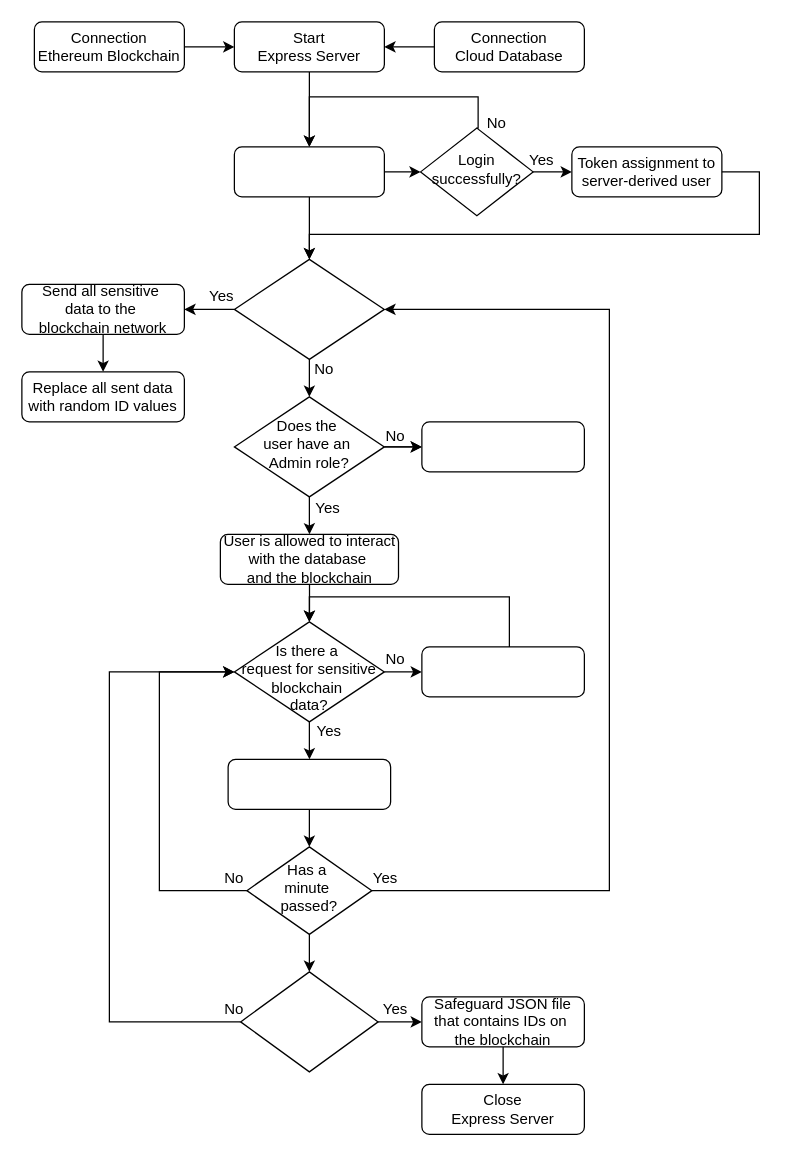
This 791x1156 diagram has some shape labels left out. The box of each missing label's shape, as (x1, y1, x2, y2) in pixels:
Is there sensitive data in the database?: (233, 258, 384, 359)
Retrieve data from blockchain to database: (227, 758, 391, 809)
The process of interacting with the database continues: (421, 646, 584, 697)
User can only make requests to view the database: (421, 421, 584, 472)
User Login/Register: (233, 146, 384, 197)
Was the server stopped?: (239, 971, 378, 1072)
